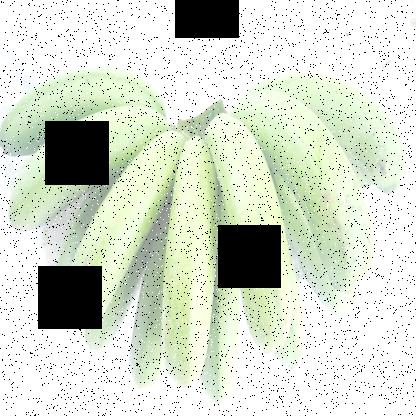unripe: (52, 117, 193, 339), (242, 83, 379, 287), (6, 86, 174, 240), (154, 112, 229, 386), (1, 43, 159, 158), (232, 86, 296, 349), (114, 256, 181, 390), (342, 54, 410, 178)
